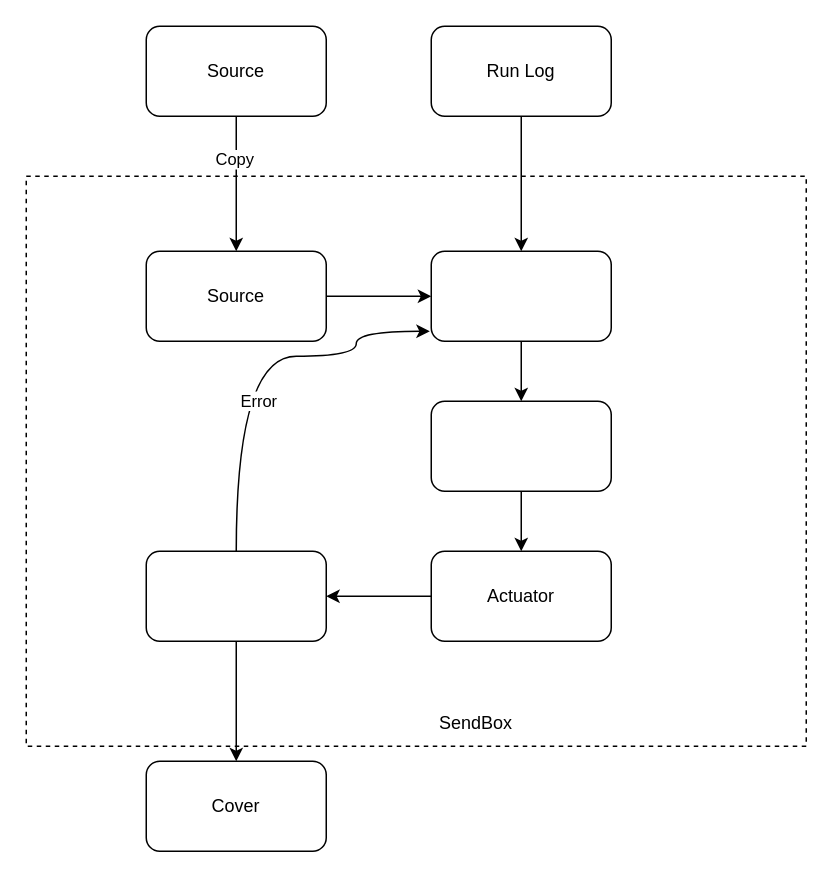
The diagram is 833 pixels wide and 878 high, and some of its shapes have lost their labels. Each missing label, with the centre of its shape:
"Analyzer" goes at pixel 520 295.
"Inspector" goes at pixel 520 445.
"Tester" goes at pixel 235 595.
